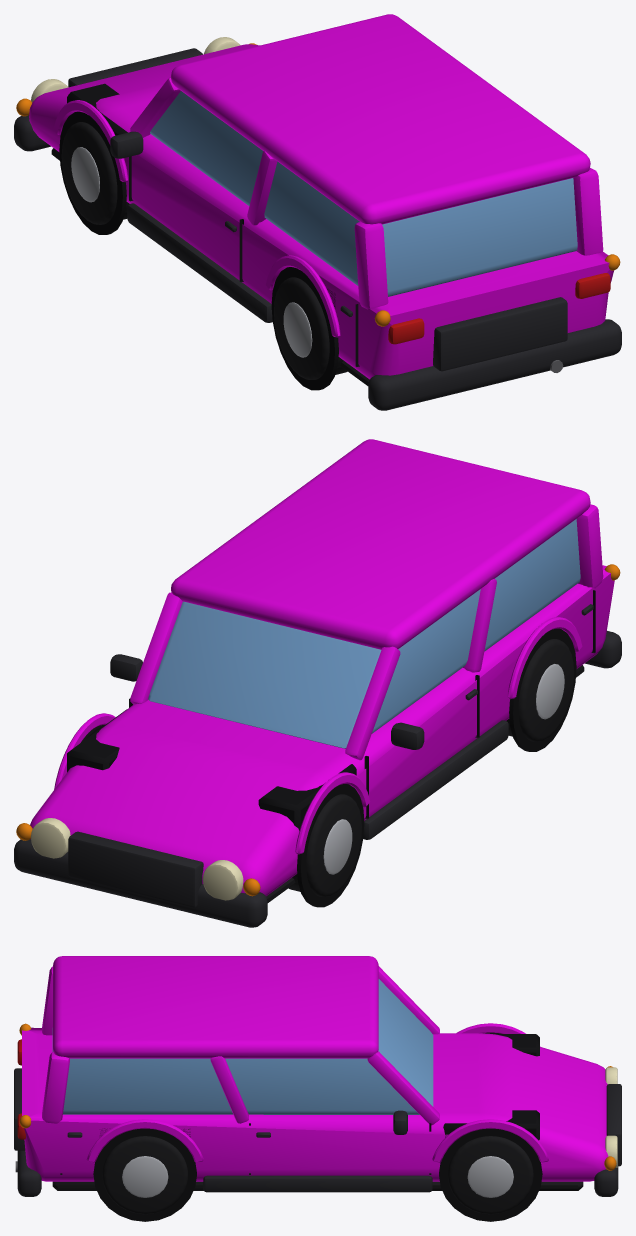
File: HearthWagon.fbx
3 renders of one model, top to bottom at view 1: azimuth 30°, elevation 25°; view 2: azimuth 150°, elevation 25°; view 3: azimuth 270°, elevation 25°, orthographic. The views are drawn at different scales.
Visible parts, largest first — view 1: HearthWagon; view 2: HearthWagon; view 3: HearthWagon.
Boxes of the visible parts, left/top/right/bottom form: HearthWagon: left=14, top=14, right=621, bottom=410; HearthWagon: left=14, top=439, right=621, bottom=927; HearthWagon: left=14, top=956, right=621, bottom=1221.
Bounding box in the file's own units: 2.36 × 1.57 × 4.93.
